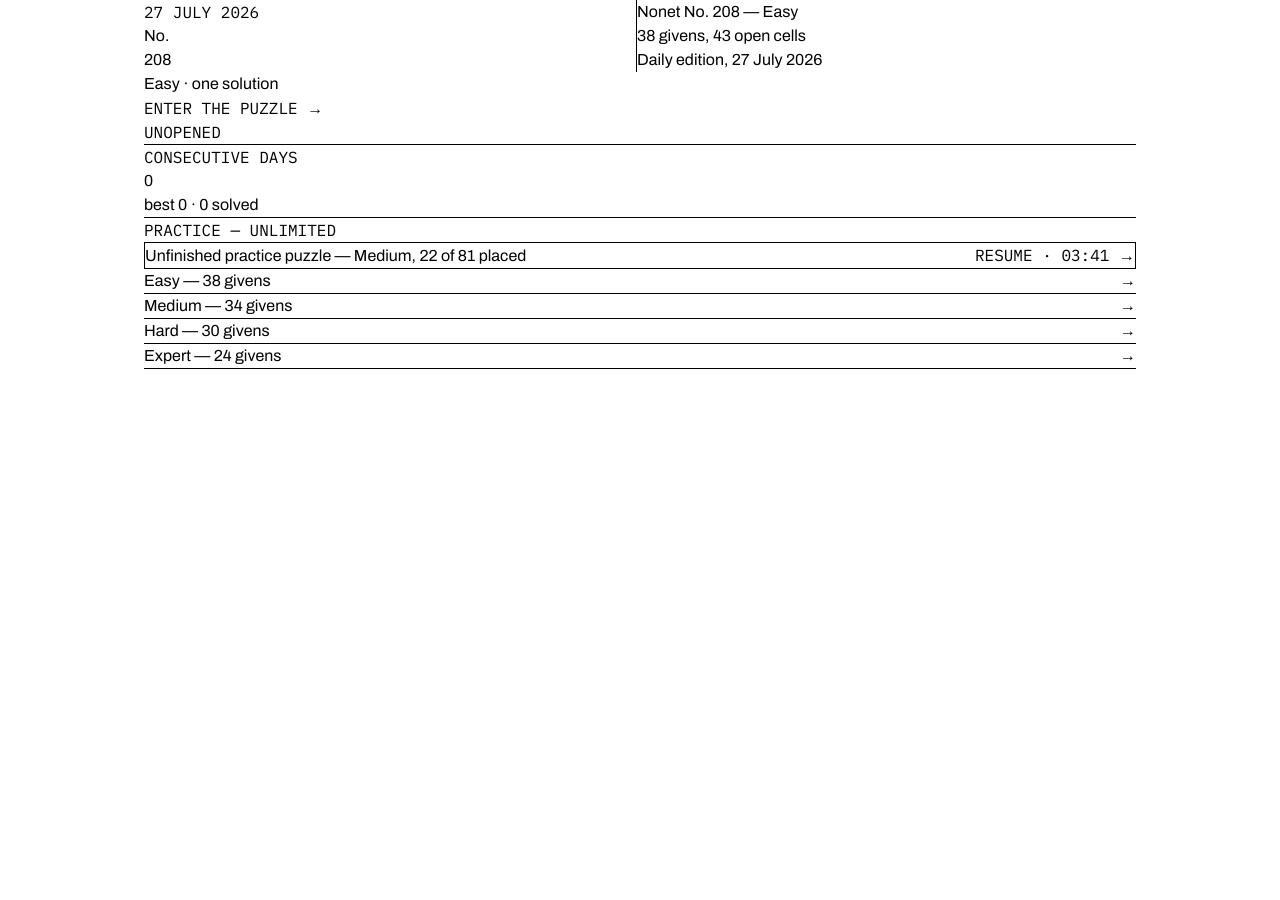
it: HomeScreen, practice › keeps the board when the confirm is dismissed
What coordinates should you click on to do the following:
click the button "Hard — 30 givens →"
I would click on:
 (161, 330)
Its box is x1=144 y1=319 x2=1136 y2=344.
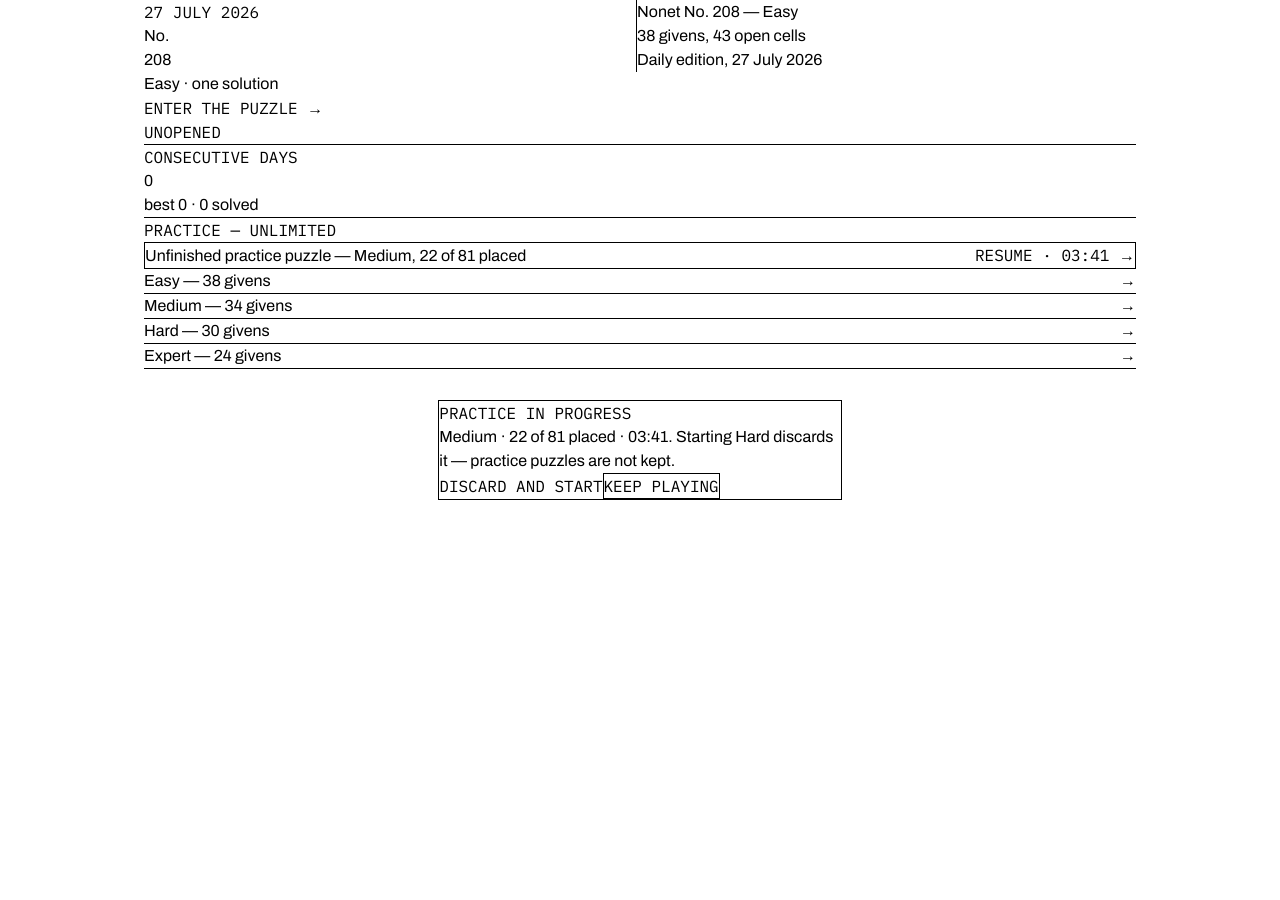
What coordinates should you click on to do the following:
click the button "Keep playing"
I would click on:
 (661, 486)
Its box is x1=602 y1=473 x2=720 y2=499.
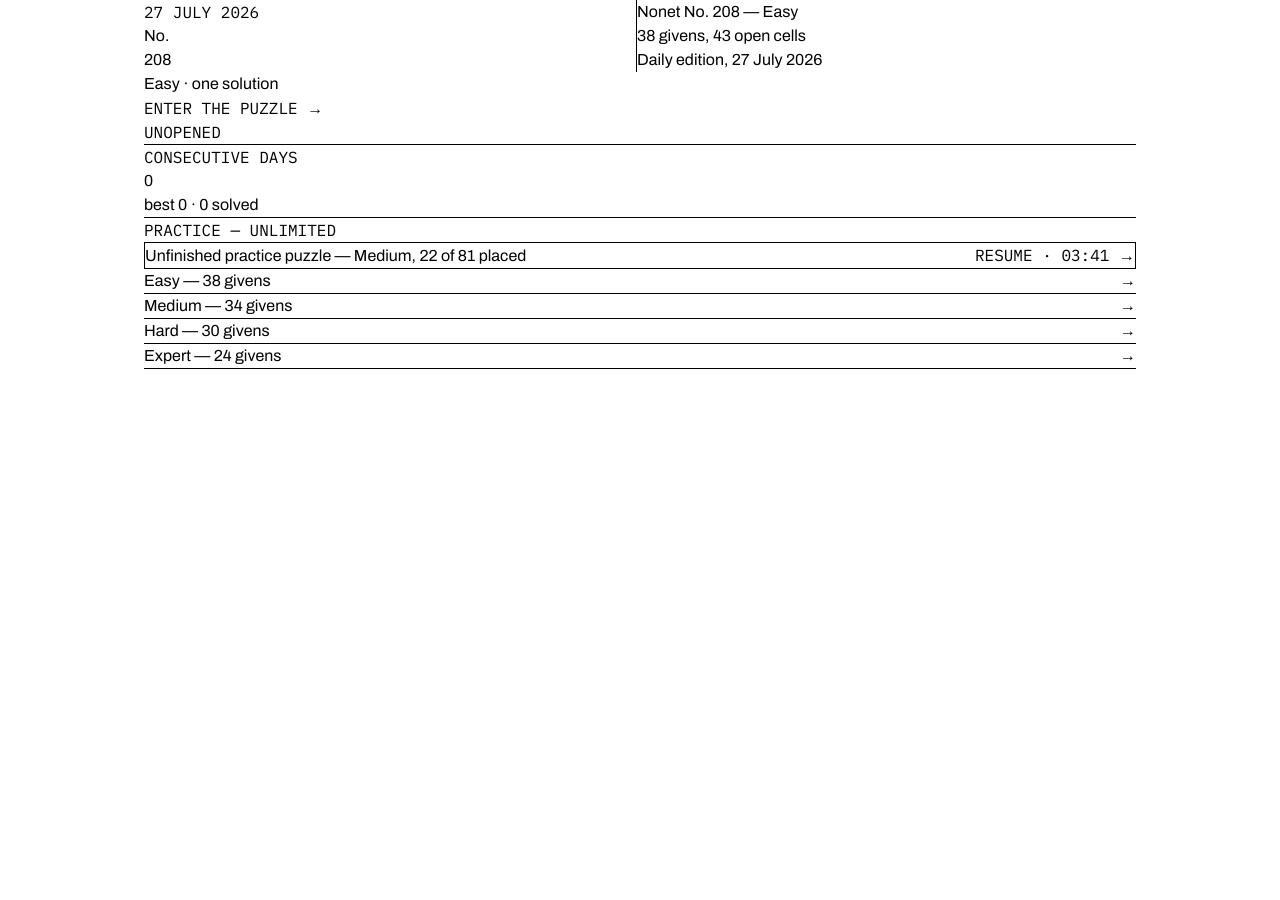
expect the dialog is gone: met
